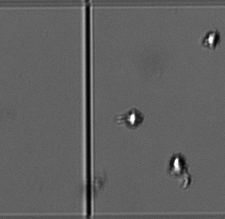Living Cell: (168, 152, 188, 177), (123, 108, 143, 127), (202, 29, 220, 48)
